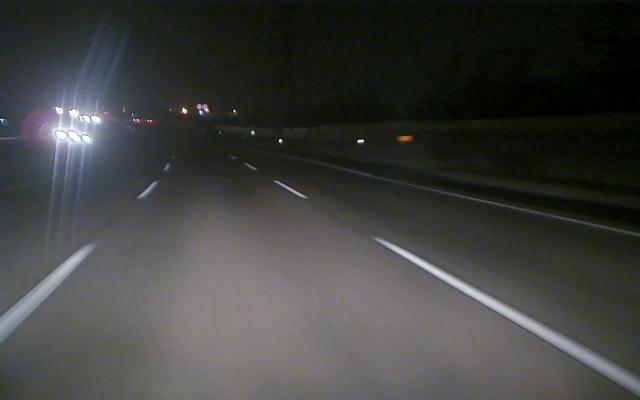lane: (250, 168, 639, 394), (4, 181, 157, 339), (350, 169, 640, 238)
